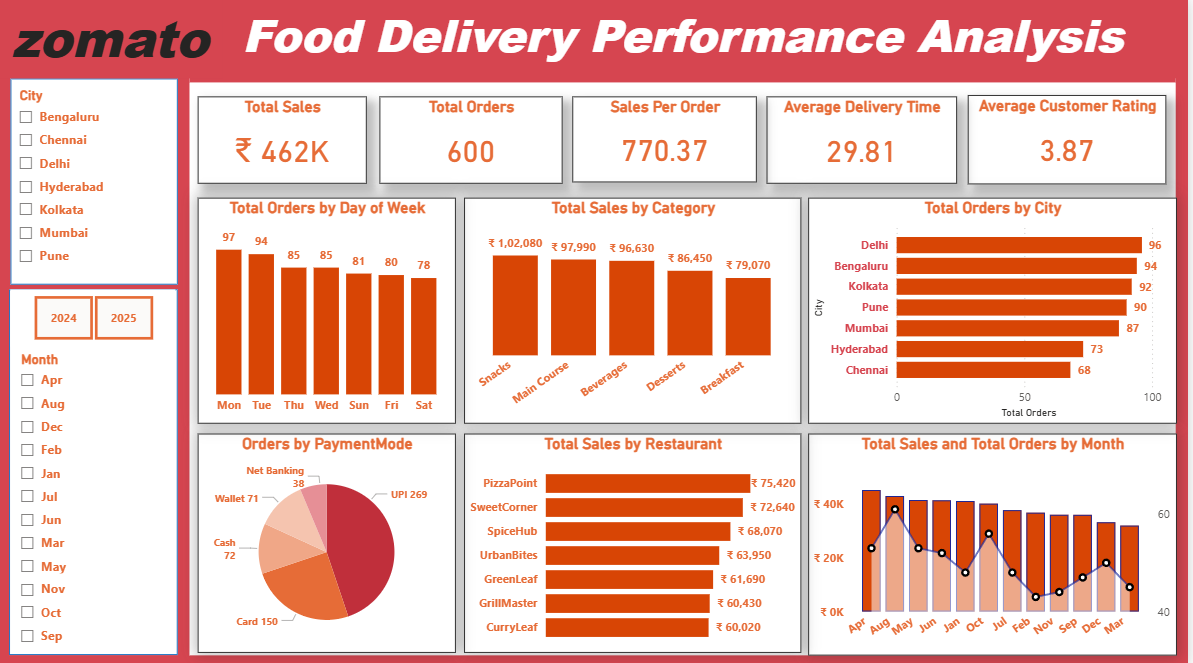

The page's visual inventory and layout, read from the dashboard file:
{"tool":"powerbi","page":{"name":"Page 1","canvas":[1280,720],"ordinal":0},"visuals":[{"type":"shape","box":[13.9,86.5,179.9,221.8],"z":0},{"type":"shape","box":[12.6,313.9,181.3,393.4],"z":1000},{"type":"slicer","fields":{"Values":["Sheet1.Month"]},"box":[12.6,375.2,178.6,329.2],"z":2000},{"type":"slicer","fields":{"Values":["Sheet1.City"]},"box":[11.2,86.5,182.7,221.8],"z":3000},{"type":"slicer","fields":{"Values":["Sheet1.Year"]},"box":[13.9,313.9,177.2,61.4],"z":4000},{"type":"shape","box":[206,86.6,1061.2,620.9],"z":5000},{"type":"card","title":"Total Sales","fields":{"Values":["Sheet1.Total Sales"]},"box":[214.8,106,181.3,93.5],"z":6000},{"type":"card","title":"Total Orders","fields":{"Values":["Sheet1.Total Orders"]},"box":[410.1,106,196.7,93.5],"z":7000},{"type":"card","title":"Average Customer Rating","fields":{"Values":["Sheet1.Average Customer Rating"]},"box":[1043.3,104.5,213.4,95.5],"z":8000},{"type":"card","title":"Average Delivery Time","fields":{"Values":["Sheet1.Average Delivery Time"]},"box":[826.9,106,204.5,94],"z":9000},{"type":"card","title":"Sales Per Order","fields":{"Values":["Sheet1.Sales Per Order"]},"box":[617.9,106,198.5,94],"z":10000},{"type":"lineStackedColumnComboChart","fields":{"Category":["Sheet1.Month"],"Y2":["Sheet1.Total Orders"],"Y":["Sheet1.Total Sales"]},"box":[871.8,468.7,396.2,238.5],"z":11000},{"type":"clusteredBarChart","fields":{"Category":["Sheet1.Restaurant"],"Y":["Sheet1.Total Sales"]},"box":[500.8,468.7,362.7,235.7],"z":12000},{"type":"columnChart","fields":{"Category":["Sheet1.Category"],"Y":["Sheet1.Total Sales"]},"box":[500.8,214.8,362.7,242.7],"z":13000},{"type":"clusteredBarChart","fields":{"Category":["Sheet1.City"],"Y":["Sheet1.Total Orders"]},"box":[871.8,214.8,396.2,242.7],"z":14000},{"type":"textbox","box":[206,0,1061.2,91],"z":15000},{"type":"textbox","box":[0,0,241.3,86.5],"z":16000},{"type":"pieChart","title":"Orders by PaymentMode","fields":{"Category":["Sheet1.PaymentMode"],"Y":["Sheet1.Total Orders"]},"box":[214.8,468.7,277.6,235.7],"z":17000},{"type":"columnChart","title":"Total Orders by Day of Week","fields":{"Y":["Sheet1.Total Orders"],"Category":["Sheet1.DayofWeek"]},"box":[214.8,214.8,277.6,242.7],"z":18000},{"type":"textbox","box":[962.7,141.8,58.2,44.8],"z":19000}]}

Visuals, with their boxes in screenshot pixels (x1, y1, x2, y2), scaled from the page's 1280x720 canvas onto the 1193x663 screenshot:
shape: 13, 80, 181, 284
shape: 12, 289, 181, 651
slicer - Sheet1.Month: 12, 345, 178, 649
slicer - Sheet1.City: 10, 80, 181, 284
slicer - Sheet1.Year: 13, 289, 178, 346
shape: 192, 80, 1181, 651
"Total Sales" card: 200, 98, 369, 184
"Total Orders" card: 382, 98, 566, 184
"Average Customer Rating" card: 972, 96, 1171, 184
"Average Delivery Time" card: 771, 98, 961, 184
"Sales Per Order" card: 576, 98, 761, 184
lineStackedColumnComboChart - Sheet1.Month x Sheet1.Total Orders: 813, 432, 1182, 651
clusteredBarChart - Sheet1.Restaurant x Sheet1.Total Sales: 467, 432, 805, 649
columnChart - Sheet1.Category x Sheet1.Total Sales: 467, 198, 805, 421
clusteredBarChart - Sheet1.City x Sheet1.Total Orders: 813, 198, 1182, 421
textbox: 192, 0, 1181, 84
textbox: 0, 0, 225, 80
"Orders by PaymentMode" pieChart: 200, 432, 459, 649
"Total Orders by Day of Week" columnChart: 200, 198, 459, 421
textbox: 897, 131, 952, 172
